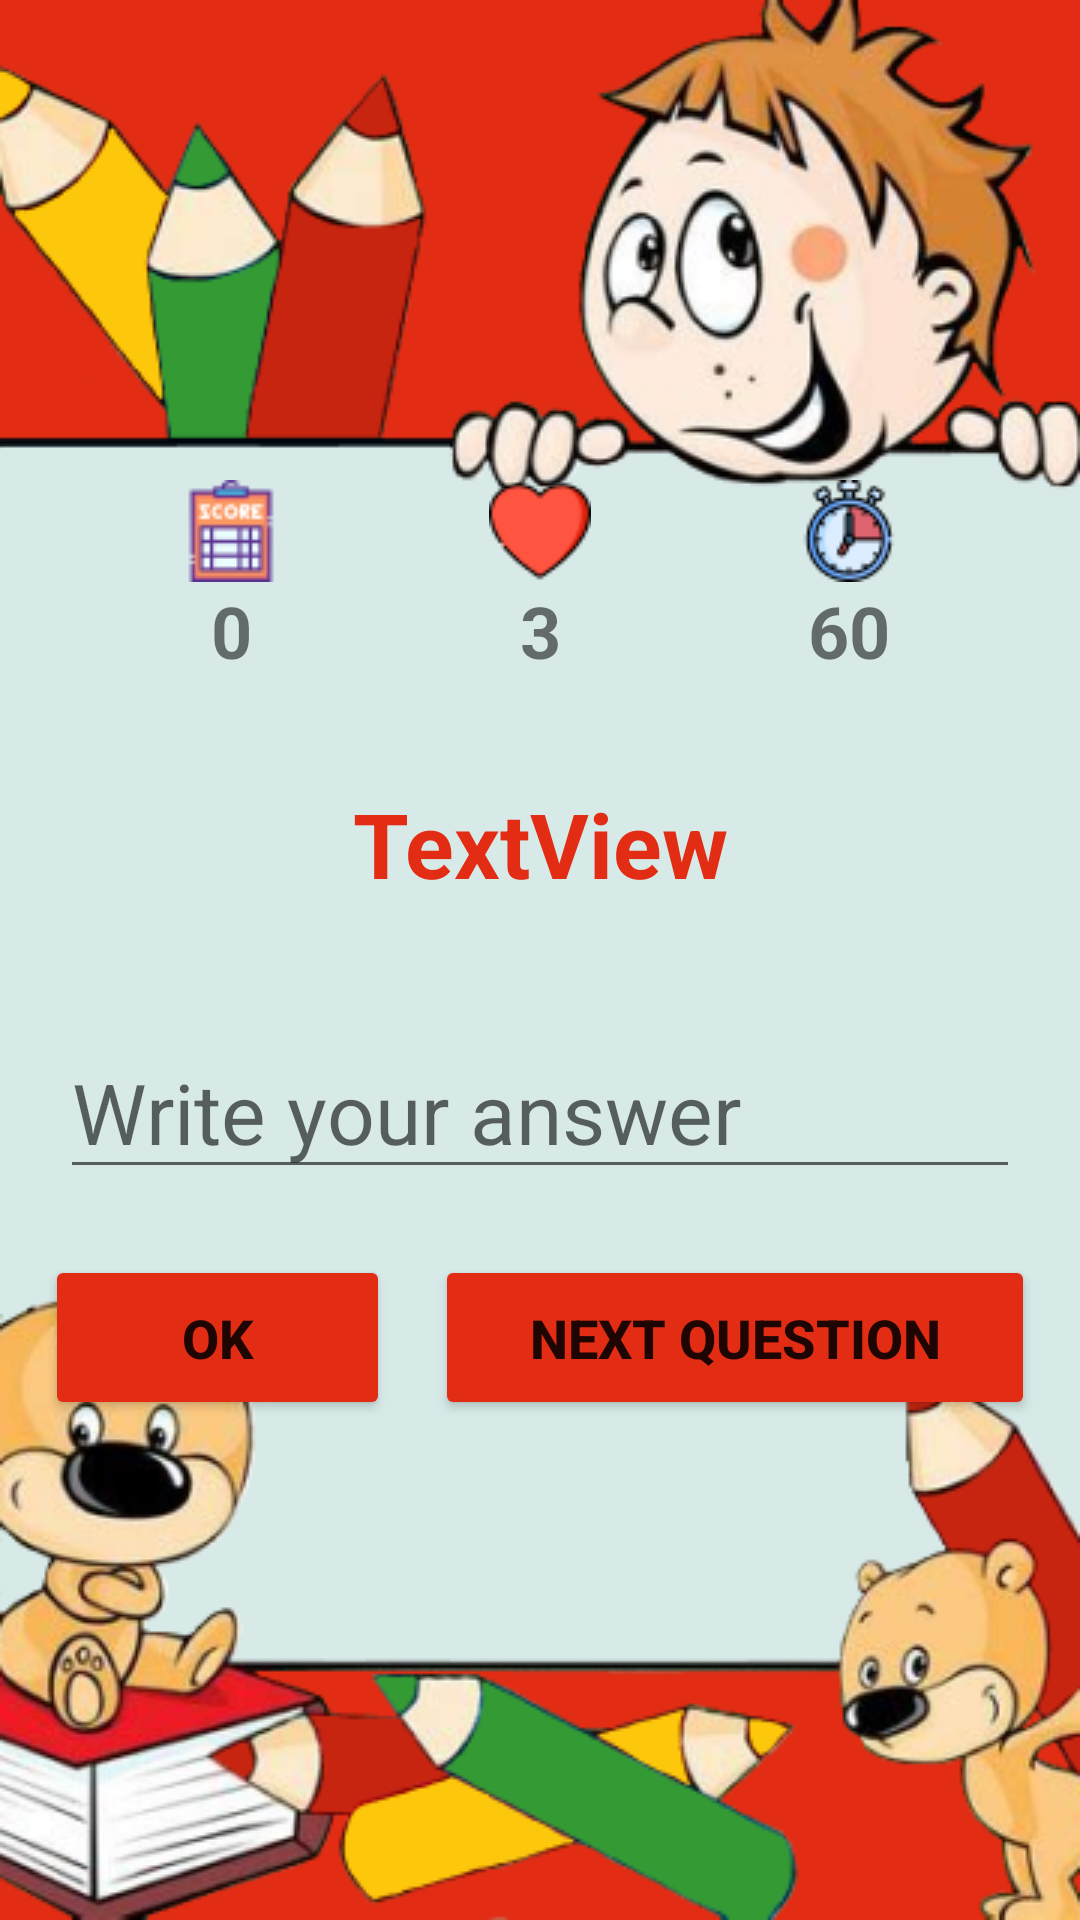

Point at icon controls on the screen. Image size 1080w x 1920h, points as (x=x, y=y).
Life: (x=540, y=530)
Time: (x=845, y=531)
